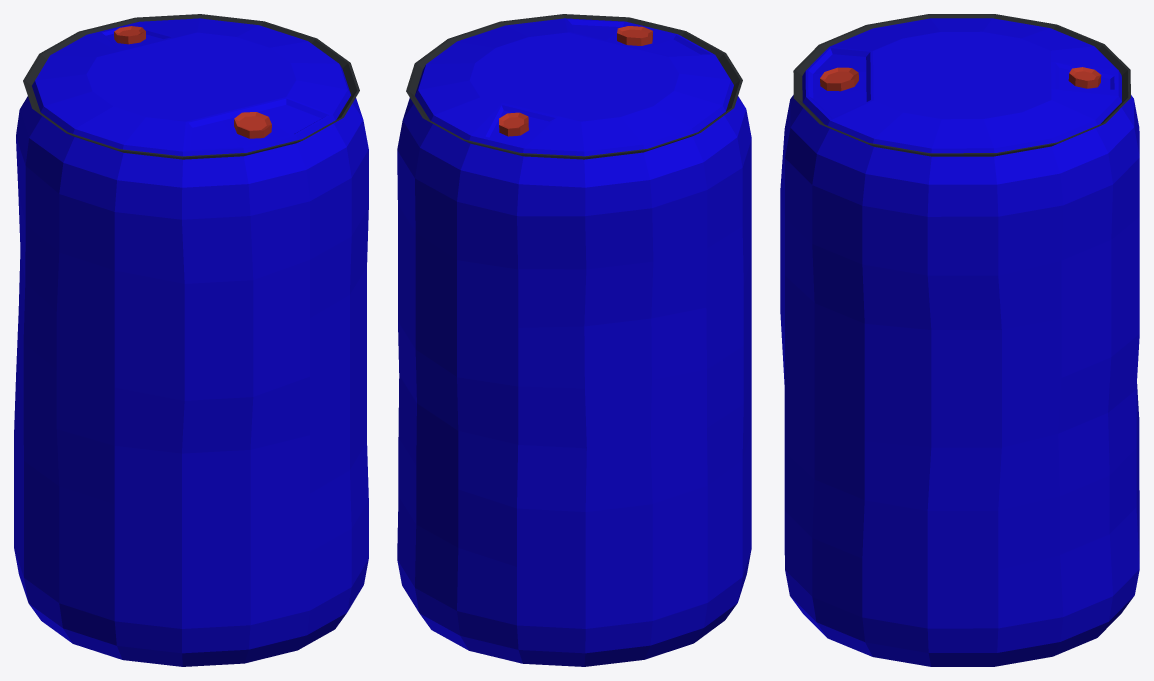
File: SM_Small_Cistern.gltf
The picture shows the model from 3 angles, left to right: view 1: azimuth 30°, elevation 25°; view 2: azimuth 150°, elevation 25°; view 3: azimuth 270°, elevation 25°; orthographic projection.
Visible parts, largest first — view 1: SM_Small_Cistern; view 2: SM_Small_Cistern; view 3: SM_Small_Cistern.
Boxes of the visible parts, bbox=[...] form: SM_Small_Cistern: bbox=[14, 14, 368, 666]; SM_Small_Cistern: bbox=[397, 14, 751, 666]; SM_Small_Cistern: bbox=[780, 14, 1139, 666].
Bounding box in the file's own units: 0.4855 × 0.8214 × 0.497.
